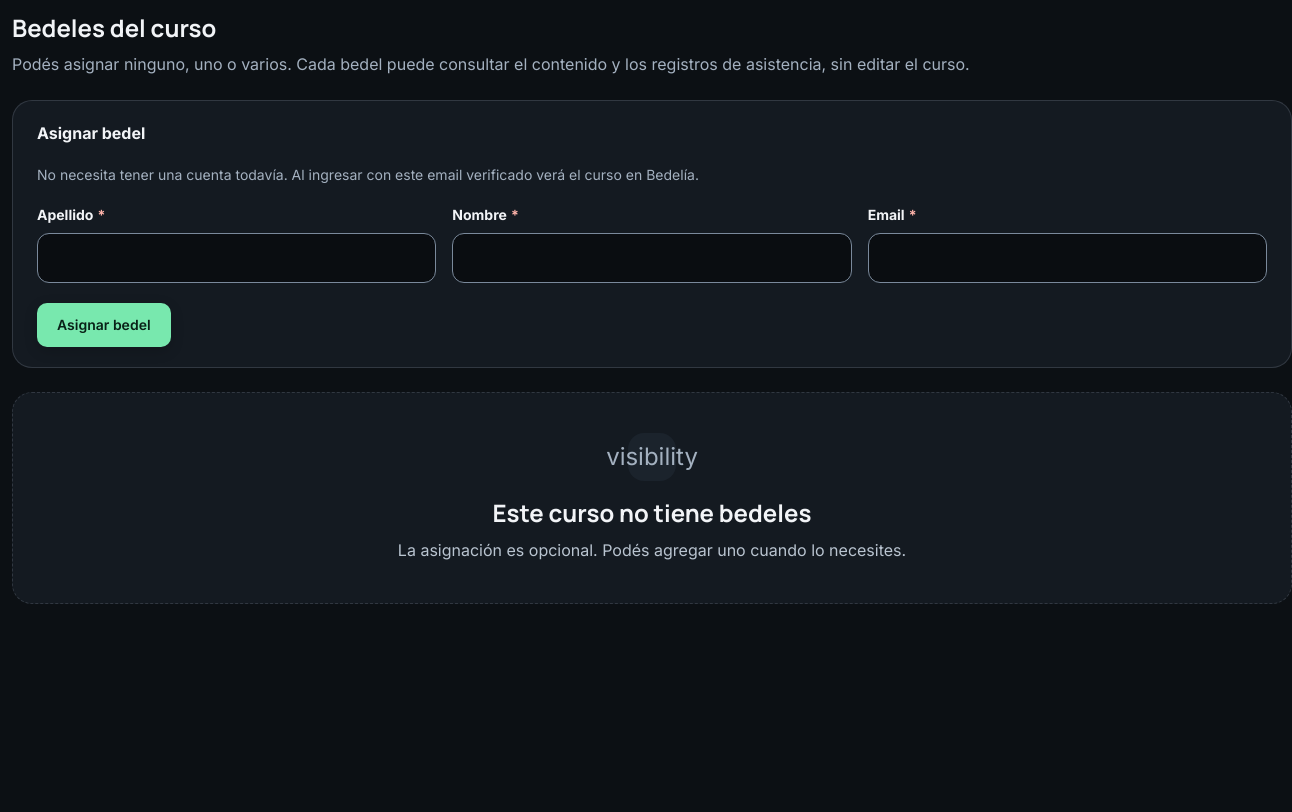
Test: asignación de bedeles › explica que la asignación es opcional y envía nombre, apellido y email
Check: the heading "Este curso no tiene bedeles" is shown, box [492,497,812,529]
Type "Pérez" into the field labelled "Apellido*" at (237, 258), box [37,233,436,283]
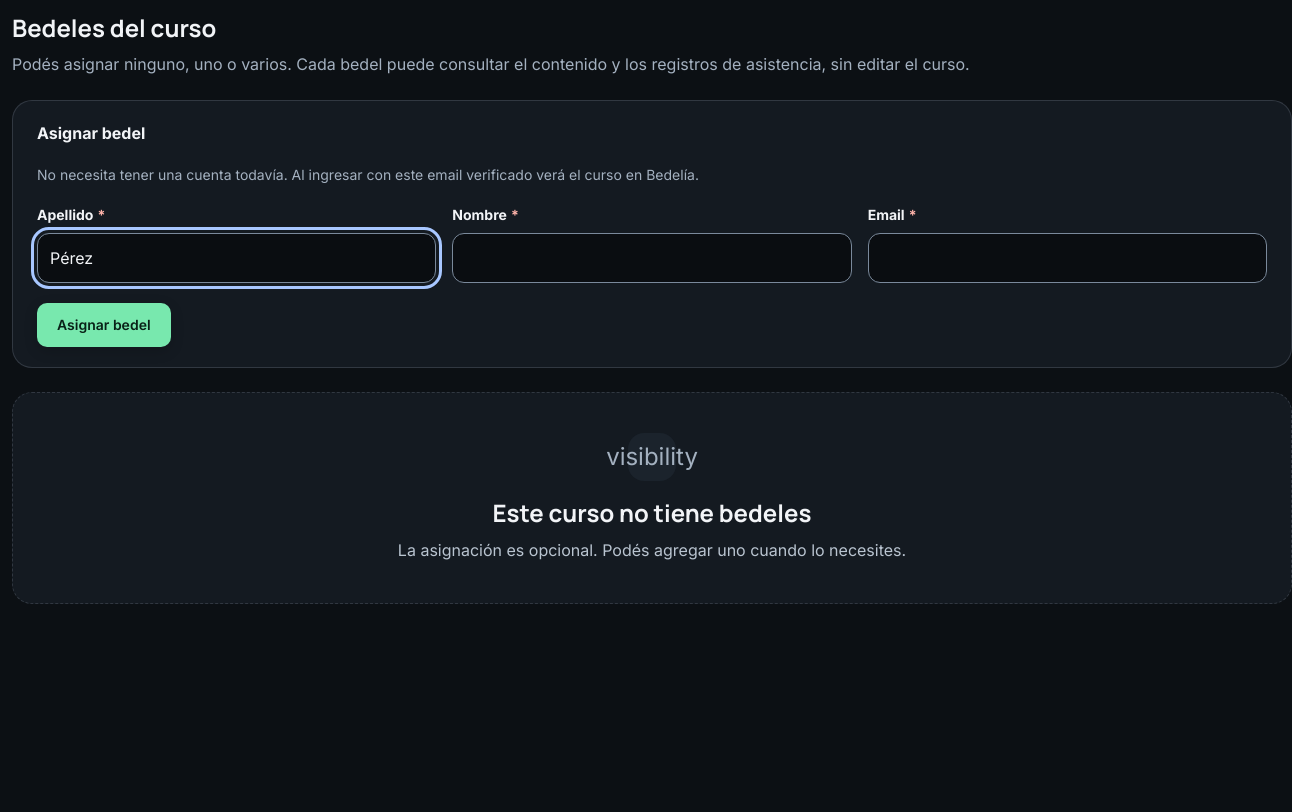
Type "Ana" into the field labelled "Nombre*" at (652, 258), box [452,233,852,283]
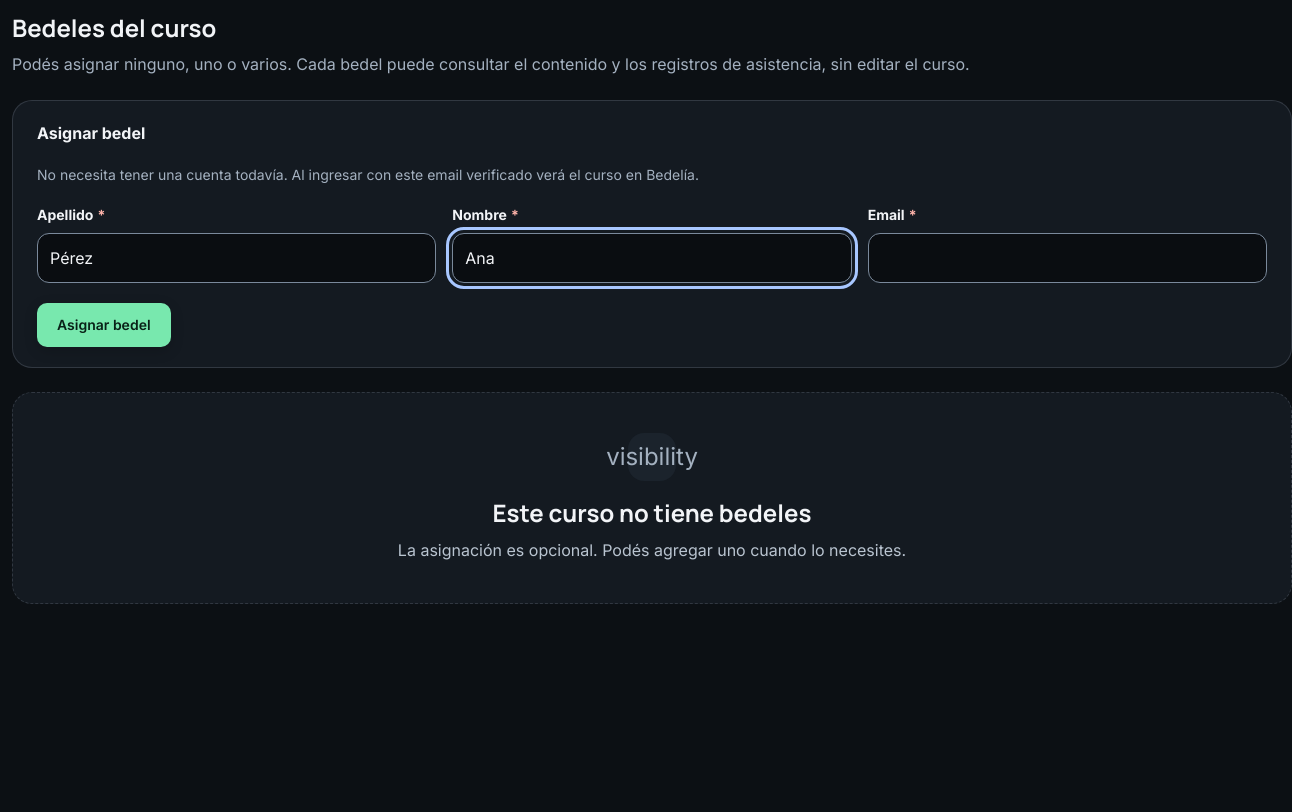
Type "ana@example.com" into the field labelled "Email*" at (1067, 258), box [868,233,1267,283]
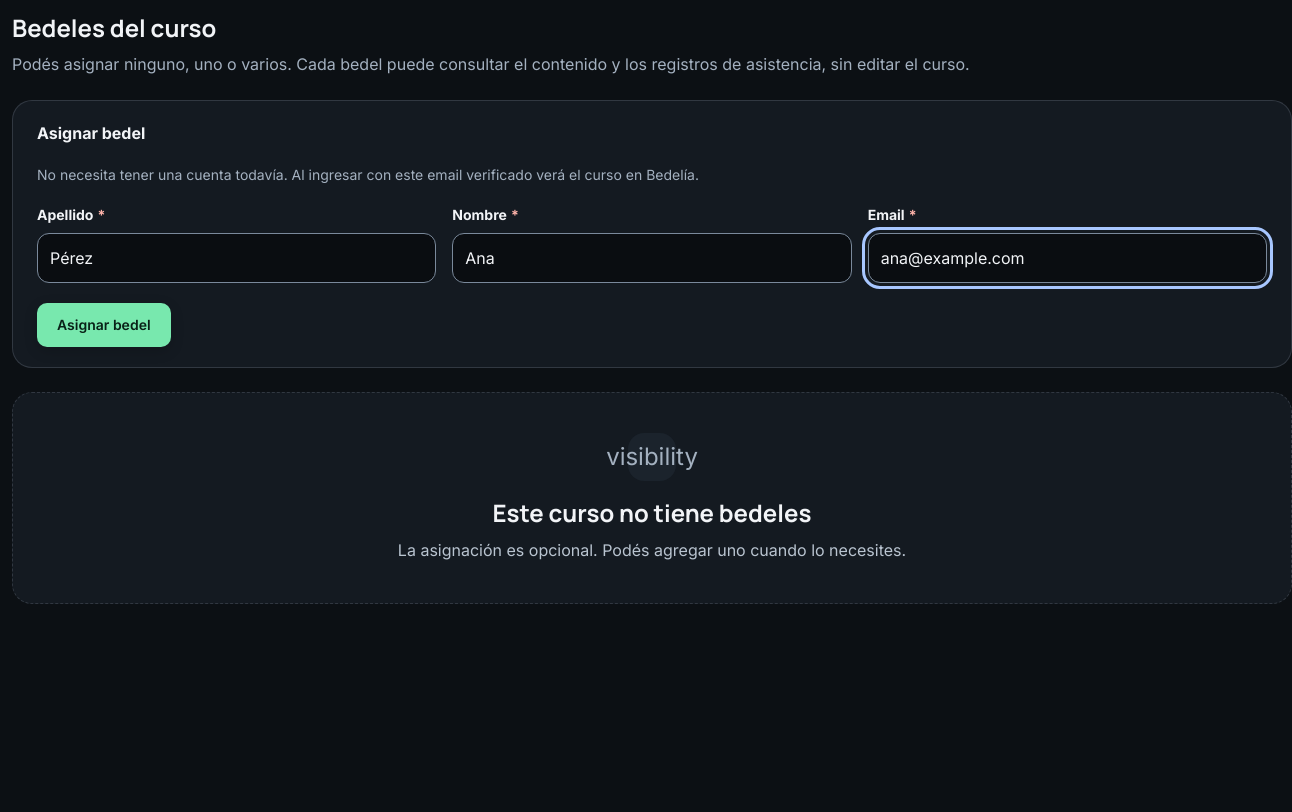
Click the button "Asignar bedel" at (104, 325), box [37,303,171,347]
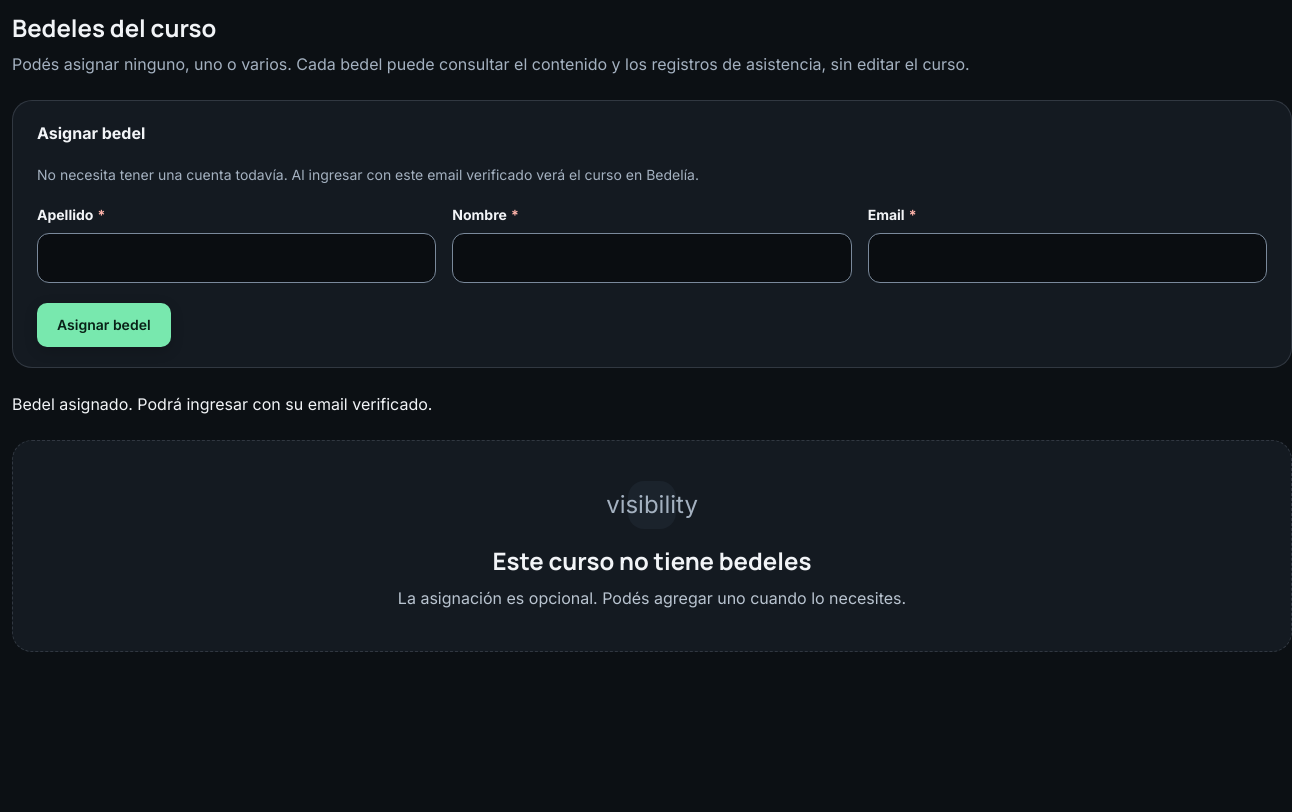
Check: the message shows "Bedel asignado", box [12,394,432,414]
